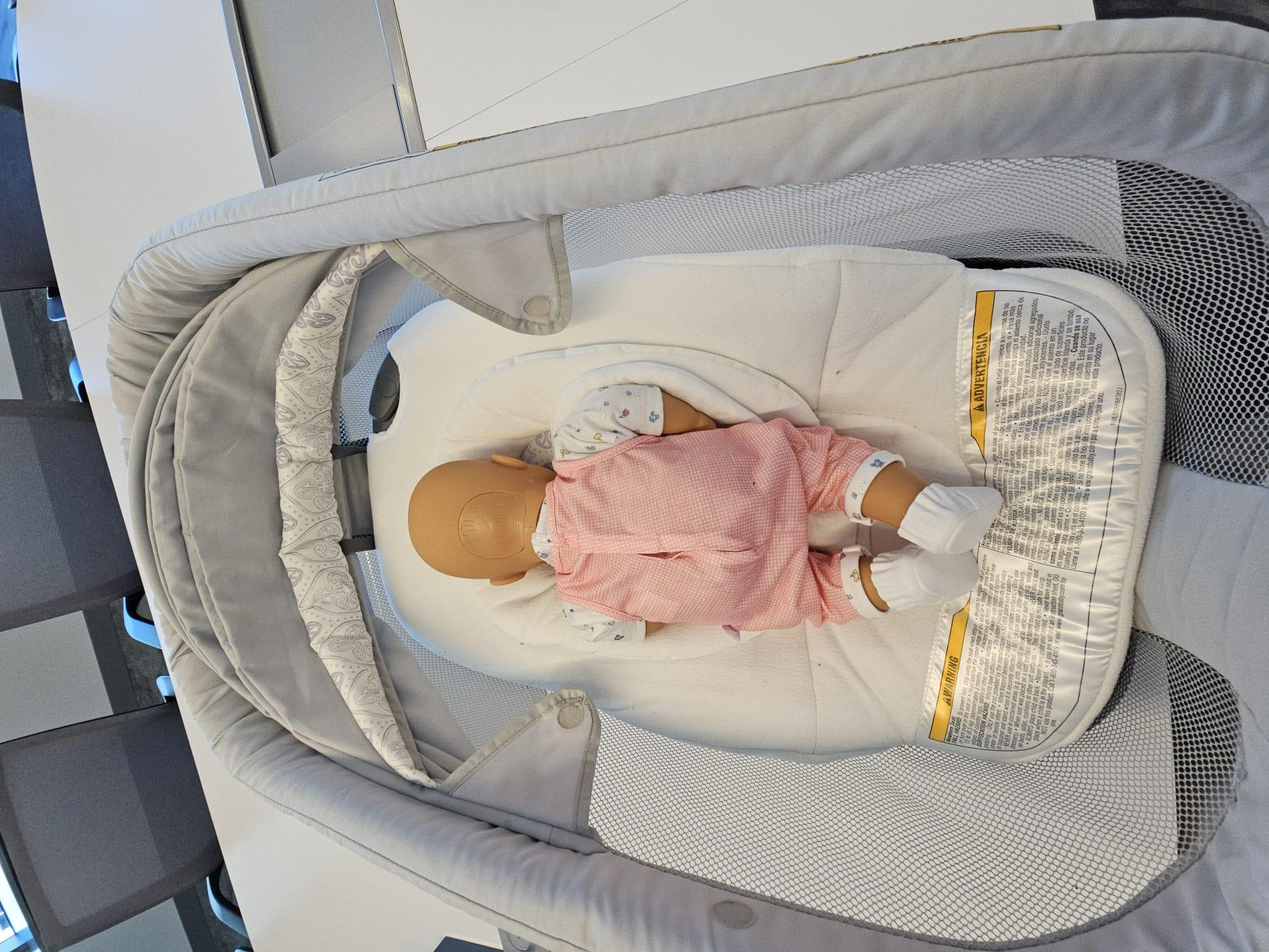baby: (391, 366, 1018, 654)
